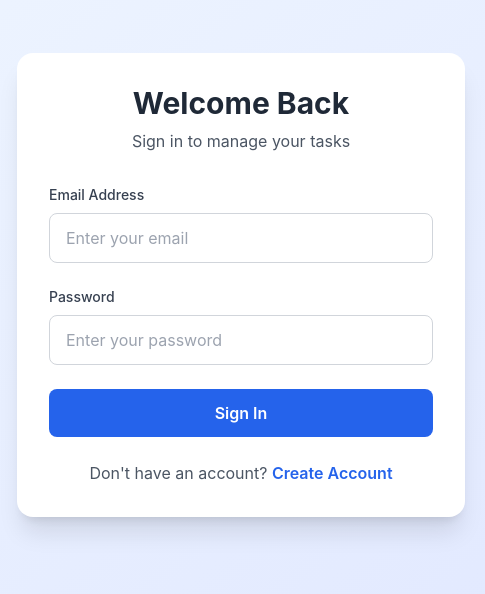
Scenario: Login Component › displays error when only email is provided
Type "test@example.com" into the field with test id "email-input" at x=241, y=238, box x1=49 y1=213 x2=433 y2=263
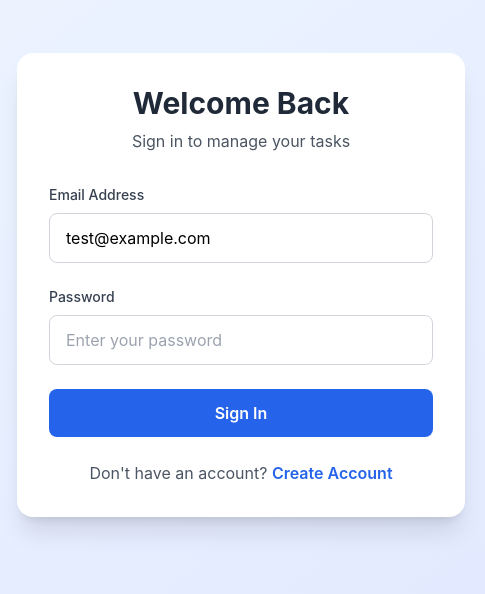
Click the button with test id "login-button" at x=241, y=413, box x1=49 y1=389 x2=433 y2=437
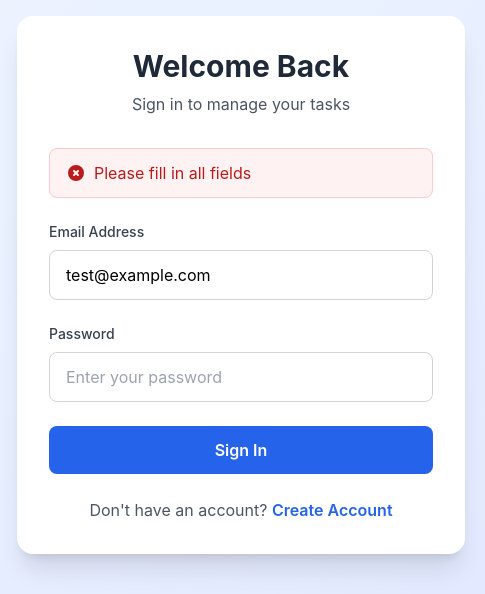
expect the text "Please fill in all fields" is shown: met, box x1=94 y1=161 x2=251 y2=185
